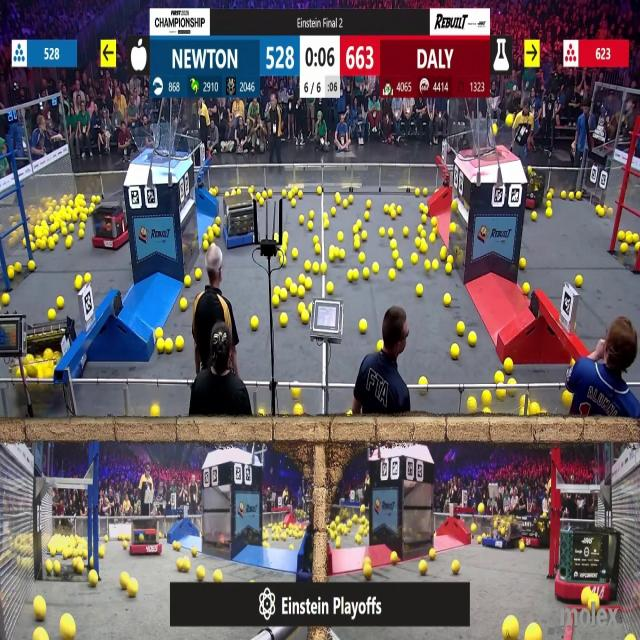ball_airborne: (506, 113, 512, 126), (492, 126, 498, 135)
ball_ground: (61, 617, 76, 640), (34, 598, 46, 620), (526, 626, 540, 640), (562, 391, 572, 407), (129, 582, 138, 599), (90, 570, 99, 586), (467, 397, 476, 412), (120, 572, 128, 588), (503, 358, 512, 372), (165, 340, 174, 354), (34, 630, 46, 640), (184, 558, 192, 573), (198, 566, 206, 580), (484, 391, 492, 405), (452, 560, 460, 574), (494, 372, 504, 383), (150, 406, 159, 418), (73, 559, 82, 571), (420, 560, 427, 575), (457, 321, 465, 334), (363, 565, 371, 578), (468, 334, 476, 347), (293, 406, 302, 417), (452, 345, 459, 359), (176, 338, 183, 352), (158, 340, 165, 354), (574, 275, 582, 287), (214, 570, 222, 582), (523, 282, 531, 294), (280, 314, 288, 326), (302, 312, 310, 324), (272, 294, 280, 306), (291, 387, 299, 399), (251, 317, 258, 330), (359, 320, 366, 333), (75, 277, 82, 290), (421, 239, 428, 252), (390, 553, 398, 564), (28, 262, 36, 273), (497, 389, 505, 400), (2, 293, 9, 305), (58, 296, 65, 308), (445, 293, 452, 305), (306, 278, 313, 290), (177, 559, 184, 571), (55, 562, 62, 574), (419, 377, 427, 387), (428, 550, 436, 560), (530, 406, 538, 416), (362, 269, 369, 280), (446, 265, 453, 276), (180, 300, 187, 311), (290, 285, 297, 296), (280, 289, 287, 300), (81, 549, 88, 560), (626, 233, 633, 244), (417, 284, 423, 296), (326, 282, 332, 294), (520, 257, 526, 269), (336, 192, 342, 204), (48, 310, 55, 320), (412, 253, 419, 263), (66, 238, 73, 248), (297, 304, 304, 314), (155, 327, 162, 337), (431, 262, 438, 272), (389, 270, 396, 280), (83, 274, 90, 284), (619, 232, 626, 242), (621, 244, 628, 254), (507, 376, 514, 386), (596, 206, 603, 216), (194, 270, 200, 281), (378, 341, 384, 352), (292, 248, 298, 259), (348, 271, 354, 282), (184, 276, 190, 287), (313, 264, 319, 275), (8, 269, 14, 280), (396, 261, 402, 272), (442, 248, 448, 259), (172, 540, 180, 548), (484, 408, 492, 416), (62, 224, 69, 233), (213, 226, 220, 235), (396, 206, 403, 215), (315, 244, 321, 254), (358, 252, 364, 262), (451, 222, 457, 232), (298, 286, 304, 296), (402, 226, 408, 236), (204, 241, 210, 251), (361, 232, 367, 242), (298, 275, 304, 285), (282, 233, 288, 243), (371, 264, 377, 274), (90, 558, 96, 568), (47, 240, 53, 250), (390, 240, 396, 250), (286, 278, 292, 288), (422, 215, 428, 225), (34, 242, 40, 252), (588, 601, 594, 611), (390, 209, 396, 219), (479, 503, 485, 513), (337, 537, 342, 548), (545, 208, 551, 217), (339, 233, 345, 242), (298, 215, 304, 224), (354, 240, 360, 249), (78, 231, 84, 240), (430, 234, 436, 243), (122, 540, 128, 549), (100, 549, 106, 558), (392, 250, 398, 259), (14, 265, 20, 274), (356, 534, 362, 543), (282, 255, 288, 264), (632, 234, 638, 243), (72, 213, 78, 222), (306, 262, 311, 272), (321, 265, 326, 275), (309, 220, 314, 230), (341, 249, 346, 259), (353, 271, 358, 281), (425, 262, 430, 272), (532, 211, 537, 221), (307, 210, 312, 220), (596, 601, 601, 611), (388, 230, 394, 238), (328, 253, 334, 261), (330, 208, 336, 216), (323, 220, 329, 228), (353, 224, 359, 232), (448, 255, 454, 263), (274, 286, 280, 294), (418, 223, 424, 231), (568, 191, 574, 199), (365, 201, 371, 209), (363, 212, 369, 220), (329, 246, 335, 254), (343, 201, 349, 209), (475, 535, 481, 543), (420, 230, 426, 238), (324, 212, 330, 220), (520, 541, 525, 550), (431, 217, 436, 226), (381, 229, 386, 238), (635, 243, 640, 252), (216, 216, 221, 225), (384, 205, 389, 214), (420, 204, 425, 213), (453, 202, 458, 211), (545, 201, 551, 208), (276, 250, 282, 257), (314, 237, 320, 244), (348, 195, 354, 202), (80, 215, 86, 222), (23, 240, 29, 247), (204, 234, 210, 241), (316, 187, 322, 194), (50, 236, 56, 243), (258, 411, 264, 418), (291, 200, 296, 208), (575, 191, 580, 199), (561, 190, 566, 198), (192, 548, 196, 558), (275, 234, 280, 242), (269, 189, 274, 197), (470, 524, 475, 532), (69, 224, 74, 232), (546, 190, 551, 198), (209, 234, 214, 242), (287, 191, 292, 199), (93, 194, 98, 202), (416, 239, 420, 248), (15, 367, 19, 376), (354, 235, 360, 241), (297, 191, 302, 198), (628, 635, 635, 640), (282, 190, 287, 197), (259, 200, 264, 207), (423, 188, 428, 195), (309, 304, 313, 312), (360, 504, 364, 512), (79, 222, 84, 228), (348, 412, 353, 418), (290, 543, 294, 550), (224, 190, 228, 197), (416, 188, 420, 195), (255, 192, 259, 199), (265, 541, 269, 547), (105, 535, 108, 542)
goal: (466, 124, 521, 160), (130, 130, 188, 159)
robot_blue: (24, 316, 87, 402), (226, 192, 258, 248), (484, 515, 518, 549)
robot_red: (551, 518, 609, 604), (91, 202, 129, 250), (514, 512, 552, 548), (130, 516, 162, 555), (524, 167, 547, 208)
